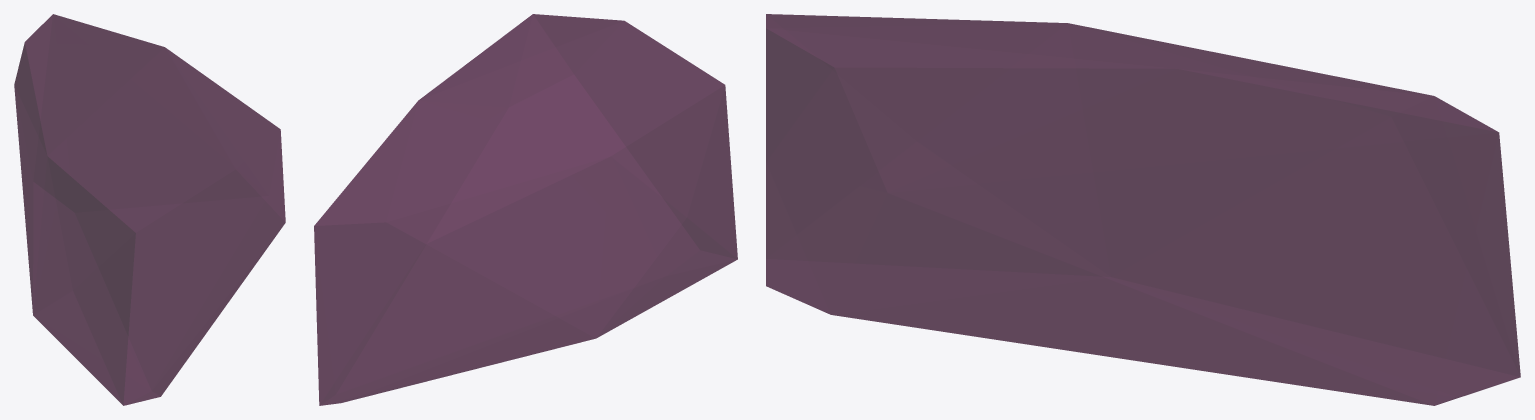
The picture shows the model from 3 angles, left to right: view 1: azimuth 30°, elevation 25°; view 2: azimuth 150°, elevation 25°; view 3: azimuth 270°, elevation 25°; orthographic projection. The views are drawn at different scales.
Parts seen in each view (by area): view 1: Shape_IndexedFaceSet.009_Shape_IndexedFaceSet.10412; view 2: Shape_IndexedFaceSet.009_Shape_IndexedFaceSet.10412; view 3: Shape_IndexedFaceSet.009_Shape_IndexedFaceSet.10412.
Boxes of the visible parts, box(x1,y1,x2,y2) form: Shape_IndexedFaceSet.009_Shape_IndexedFaceSet.10412: box(14, 14, 285, 405); Shape_IndexedFaceSet.009_Shape_IndexedFaceSet.10412: box(314, 14, 737, 405); Shape_IndexedFaceSet.009_Shape_IndexedFaceSet.10412: box(766, 14, 1520, 405).
Bounding box in the file's own units: 0.076 × 0.0893 × 0.1783.
